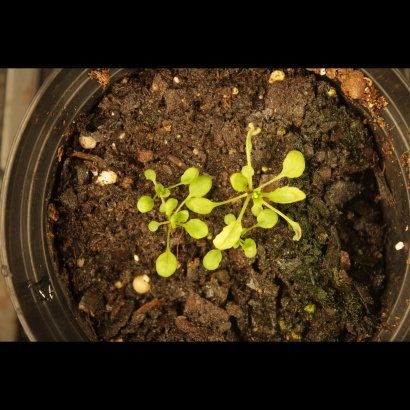leaf: (267, 183, 310, 210), (148, 246, 181, 281), (212, 217, 245, 252), (279, 146, 310, 181), (185, 194, 225, 219), (180, 217, 213, 241), (227, 169, 255, 196), (200, 246, 226, 275), (187, 174, 214, 201), (131, 192, 159, 217), (255, 207, 283, 231), (139, 163, 162, 186), (178, 165, 201, 188), (242, 238, 265, 261), (139, 218, 162, 241), (159, 195, 182, 218), (242, 159, 265, 182)
